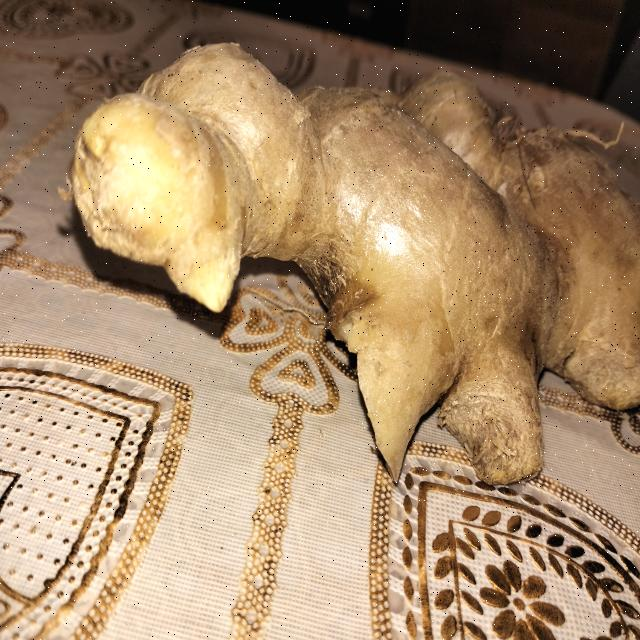ginger: (78, 26, 634, 502)
